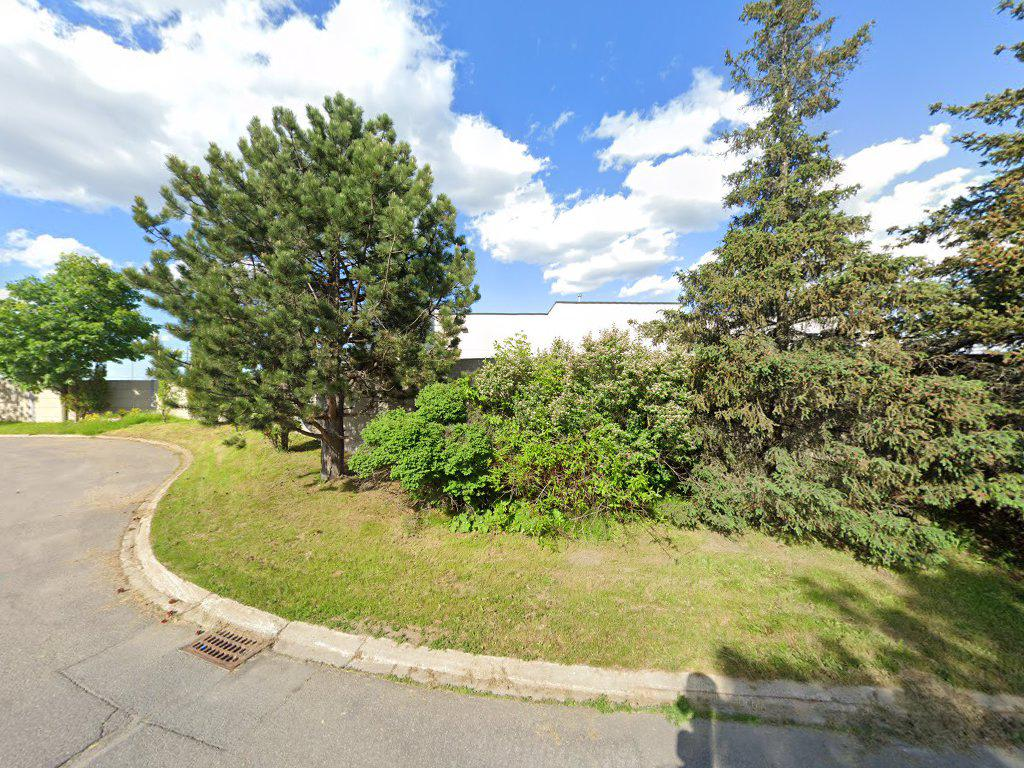trunk: (312, 398, 358, 493)
